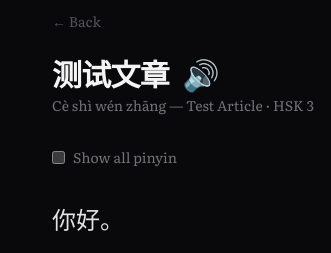
Scenario: Reader › toggles tooltip off when clicking same word again
Click the text "你": {"x": 64, "y": 218} [52,201,76,236]
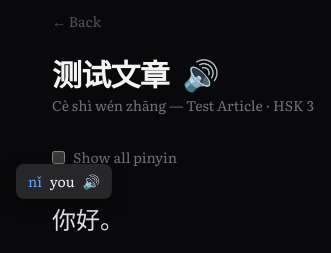
Check: the text "you" is shown, box [50,171,75,191]
Click the text "你": {"x": 64, "y": 218} [52,201,76,236]
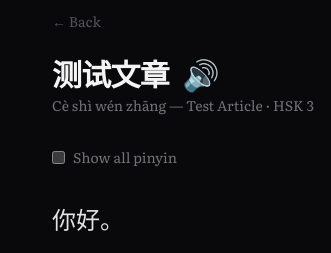
Check: the text "you" is gone
